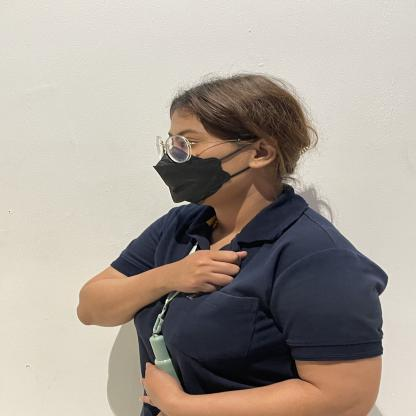Sadness: (67, 229, 278, 346)
